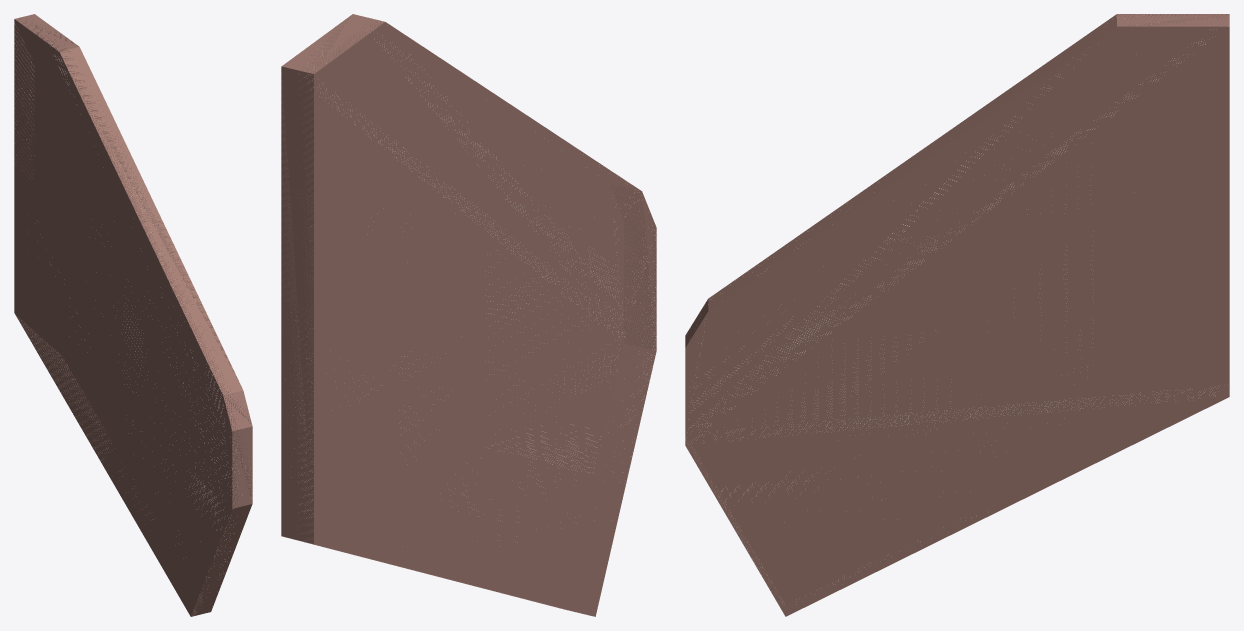
Rendered from SW_PROP_PlatformEndStair_Railing_Collision.fbx.
3 views of the same model, side by side, from view 1: azimuth 30°, elevation 25°; view 2: azimuth 150°, elevation 25°; view 3: azimuth 270°, elevation 25° (orthographic). The views are drawn at different scales.
Visible parts, largest first — view 1: SW_PROP_PlatformEndStair_Railing_Collision; view 2: SW_PROP_PlatformEndStair_Railing_Collision; view 3: SW_PROP_PlatformEndStair_Railing_Collision.
Part boxes in pixels (x1,y1,x2,y2): SW_PROP_PlatformEndStair_Railing_Collision: (14, 14, 252, 616); SW_PROP_PlatformEndStair_Railing_Collision: (281, 14, 656, 616); SW_PROP_PlatformEndStair_Railing_Collision: (685, 14, 1229, 616).
Bounding box in the file's own units: 0.0774 × 1.57 × 1.31.
